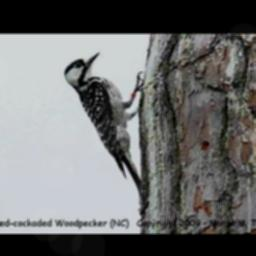Woodpecker: (61, 52, 147, 205)
